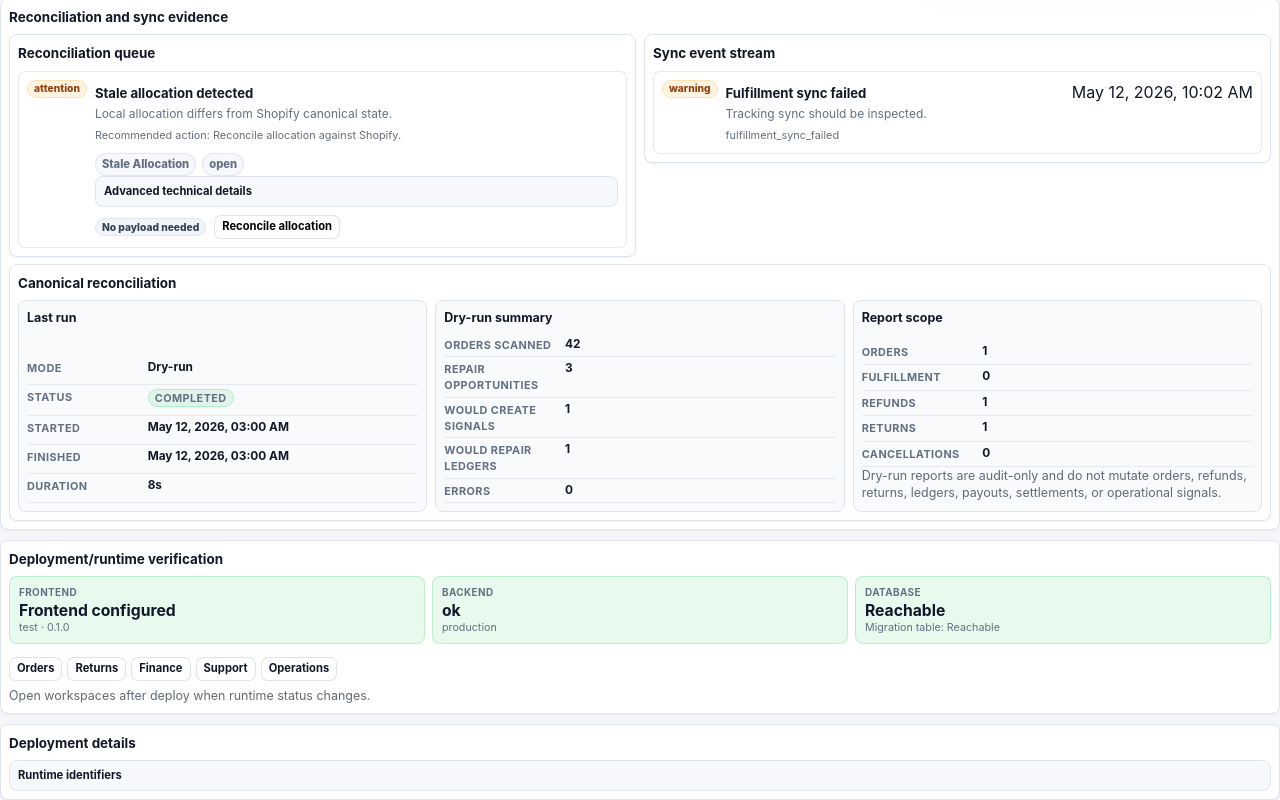
Scenario: AdminDiagnosticsPage control center › renders safe deployment runtime diagnostics without exposing secrets
(page scrolled)
expect the heading "Deployment/runtime verification" is shown: met, box [9, 549, 223, 569]
Click the heading "Runtime identifiers": point(70, 775) [18, 768, 122, 782]
(page scrolled)
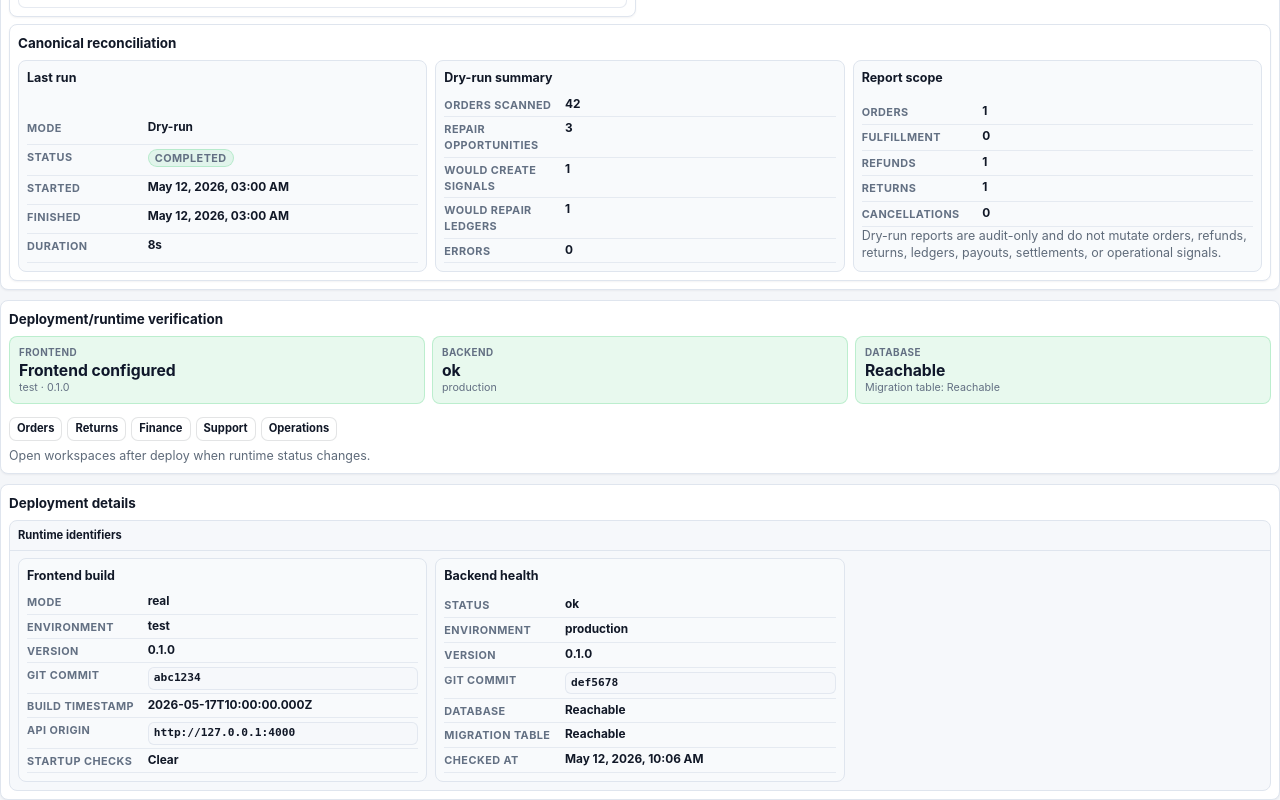
expect the text "http://127.0.0.1:4000" is shown: met, box [148, 722, 418, 745]
expect the text "def5678" is shown: met, box [565, 672, 836, 694]
